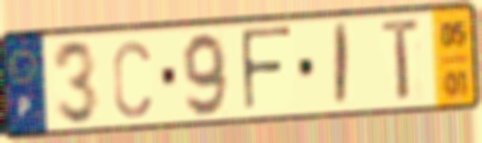3: (50, 36, 101, 128)
9: (180, 29, 232, 118)
C: (110, 37, 154, 121)
F: (237, 24, 295, 116)
I: (332, 20, 352, 110)
T: (379, 15, 424, 106)
